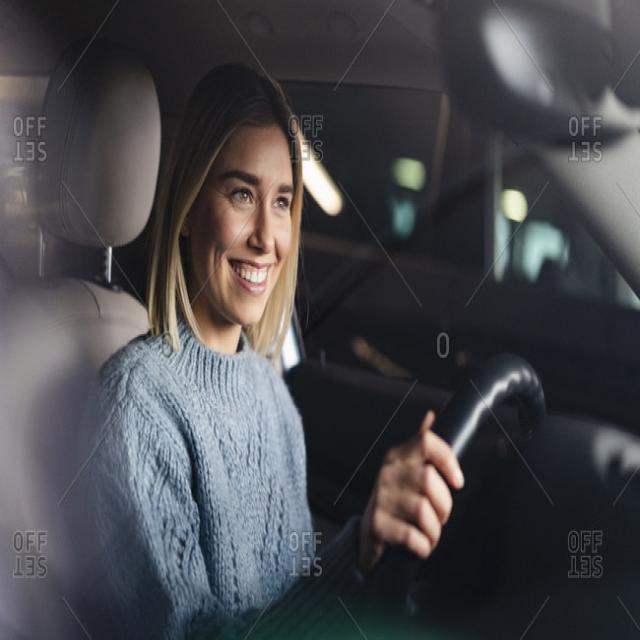Focused: (193, 138, 294, 326)
